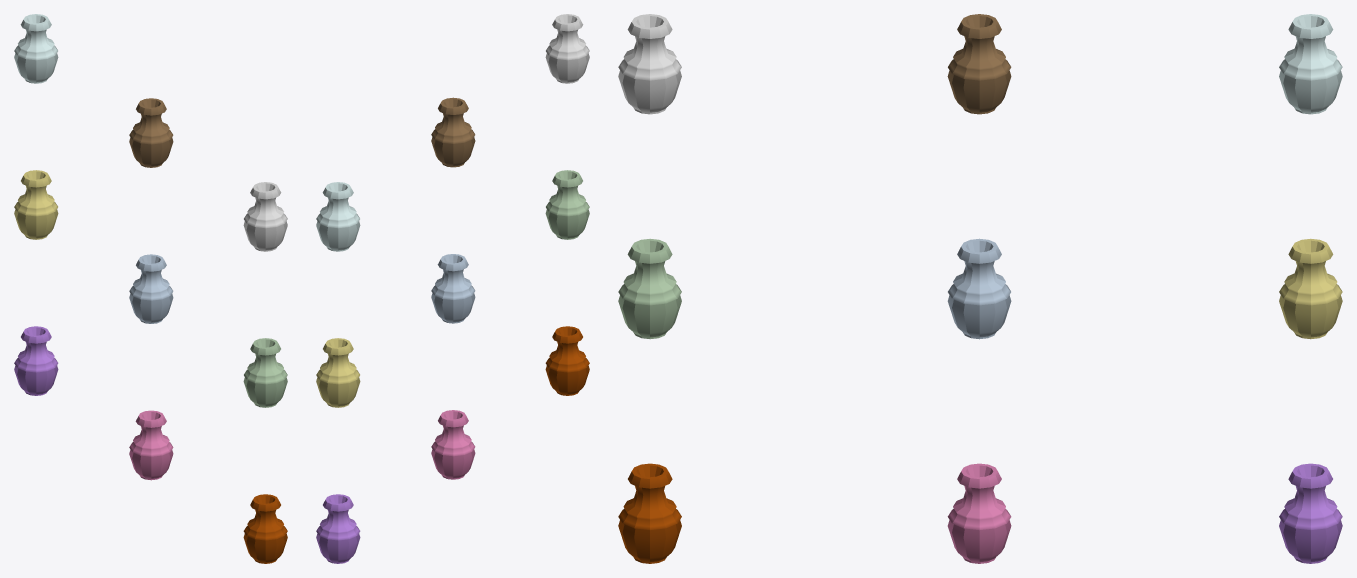
The model's file is vase_9.fbx.
3 views of the same model, side by side, from view 1: azimuth 30°, elevation 25°; view 2: azimuth 150°, elevation 25°; view 3: azimuth 270°, elevation 25° (orthographic). The views are drawn at different scales.
Parts seen in each view (by area): view 1: pCylinder190, pCylinder199, pCylinder217, pCylinder235, pCylinder172, pCylinder208, pCylinder226, pCylinder244, pCylinder181; view 2: pCylinder190, pCylinder172, pCylinder208, pCylinder226, pCylinder244, pCylinder235, pCylinder199, pCylinder217, pCylinder181; view 3: pCylinder172, pCylinder190, pCylinder217, pCylinder244, pCylinder181, pCylinder199, pCylinder226, pCylinder208, pCylinder235.
Part boxes in pixels (x1,y1,x2,y2): pCylinder190: (129,410,173,480); pCylinder199: (243,338,287,407); pCylinder217: (243,494,287,563); pCylinder235: (14,14,58,83); pCylinder172: (129,254,173,323); pCylinder208: (243,182,287,251); pCylinder226: (14,170,58,239); pCylinder244: (14,326,58,395); pCylinder181: (129,98,173,167); pCylinder190: (431,410,475,479); pCylinder172: (431,254,475,323); pCylinder208: (545,14,589,83); pCylinder226: (316,338,360,407); pCylinder244: (316,494,360,563); pCylinder235: (316,182,360,251); pCylinder199: (545,170,589,239); pCylinder217: (545,326,589,395); pCylinder181: (431,97,475,167); pCylinder172: (947,238,1011,339); pCylinder190: (947,463,1011,563); pCylinder217: (618,463,681,563); pCylinder244: (1279,463,1342,563); pCylinder181: (947,14,1011,114); pCylinder199: (618,238,681,339); pCylinder226: (1279,238,1342,339); pCylinder208: (618,14,681,114); pCylinder235: (1279,14,1342,114).
Bounding box in the file's own units: 2.32 × 21.42 × 26.29.
